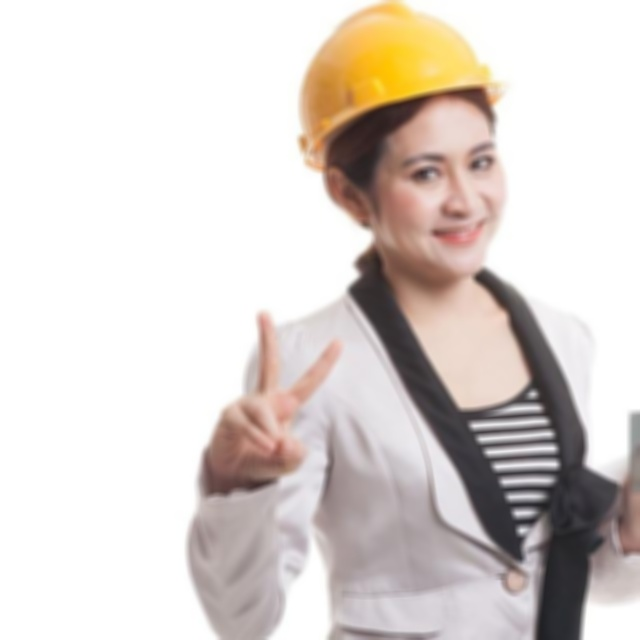Con_Casco: (299, 4, 509, 284)
Sin_Chaleco: (282, 287, 605, 640)
